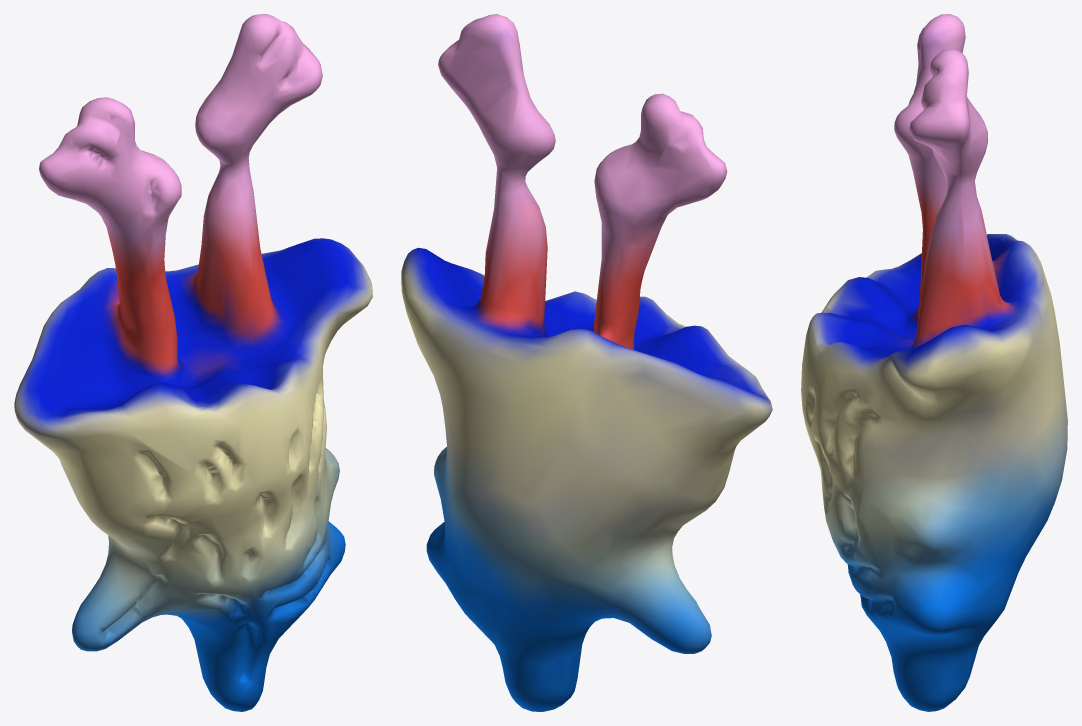
3 renders of one model, left to right at view 1: azimuth 30°, elevation 25°; view 2: azimuth 150°, elevation 25°; view 3: azimuth 270°, elevation 25°, orthographic. The views are drawn at different scales.
Parts seen in each view (by area): view 1: Group58551; view 2: Group58551; view 3: Group58551.
Boxes of the visible parts, x1,y1,x2,y2 form: Group58551: [14, 14, 372, 711]; Group58551: [401, 14, 772, 711]; Group58551: [801, 14, 1067, 711].
Size of the model in its own units: 0.0129 by 0.0238 by 0.00854.
Materials: 1 (1 with a texture image).
